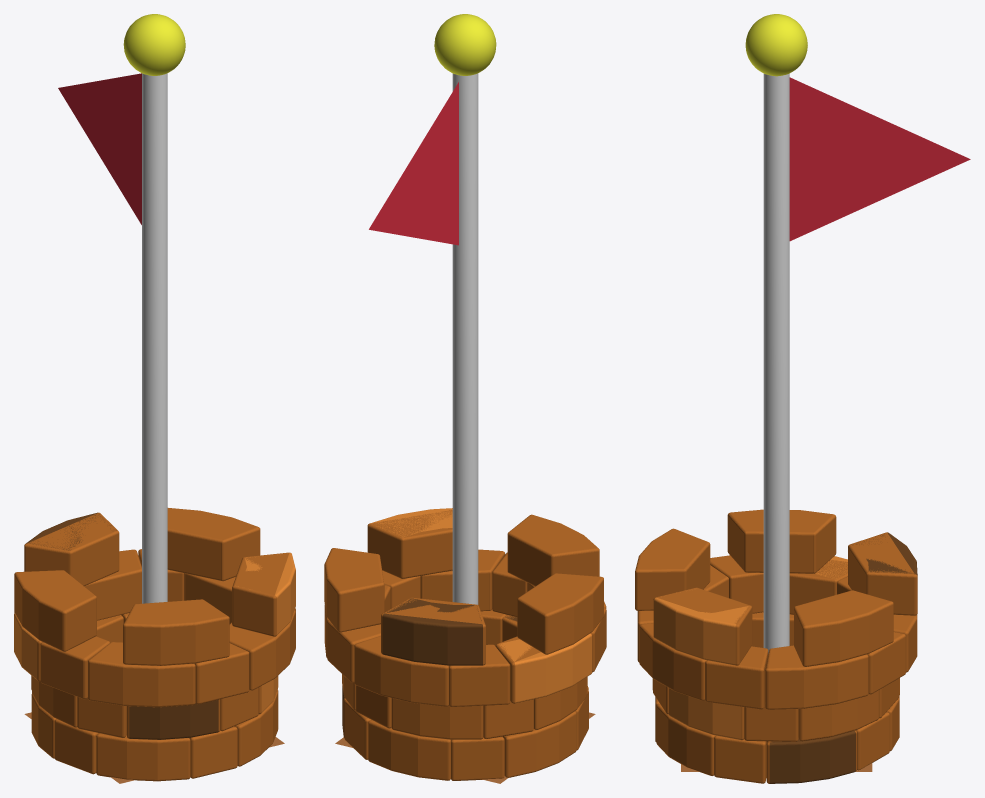
Rendered from Goalflag.fbx.
3 views of the same model, side by side, from view 1: azimuth 30°, elevation 25°; view 2: azimuth 150°, elevation 25°; view 3: azimuth 270°, elevation 25° (orthographic).
Visible parts, largest first — view 1: Cube.003, 円柱, 平面, 球; view 2: Cube.003, 円柱, 平面, 球; view 3: Cube.003, 円柱, 平面, 球.
Part boxes in pixels (x1=…): Cube.003: x1=14, y1=508, x2=295, y2=781; 円柱: x1=142, y1=73, x2=167, y2=603; 平面: x1=58, y1=73, x2=141, y2=224; 球: x1=123, y1=14, x2=185, y2=75; Cube.003: x1=324, y1=508, x2=606, y2=780; 円柱: x1=452, y1=73, x2=478, y2=604; 平面: x1=369, y1=82, x2=458, y2=245; 球: x1=434, y1=14, x2=496, y2=75; Cube.003: x1=635, y1=509, x2=917, y2=783; 円柱: x1=763, y1=73, x2=789, y2=653; 平面: x1=789, y1=77, x2=970, y2=241; 球: x1=745, y1=14, x2=807, y2=76.
Size of the model in its own units: 379 by 1059 by 451.
